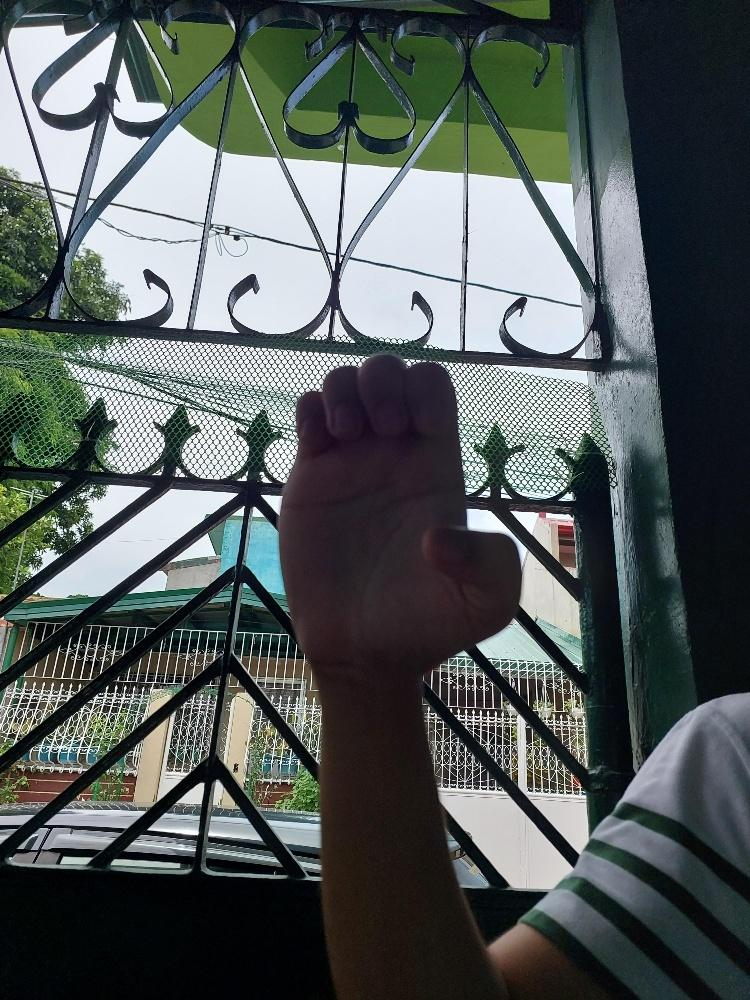e: (273, 347, 521, 686)
